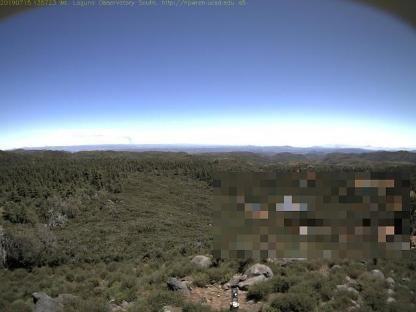smoke: (121, 136, 135, 144)
